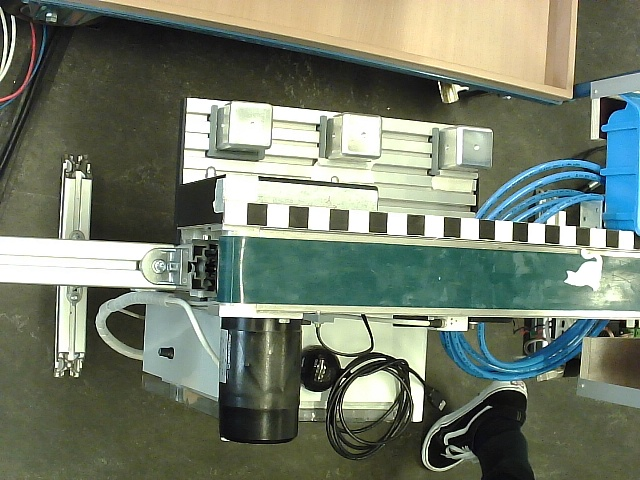cat: (564, 248, 604, 291)
